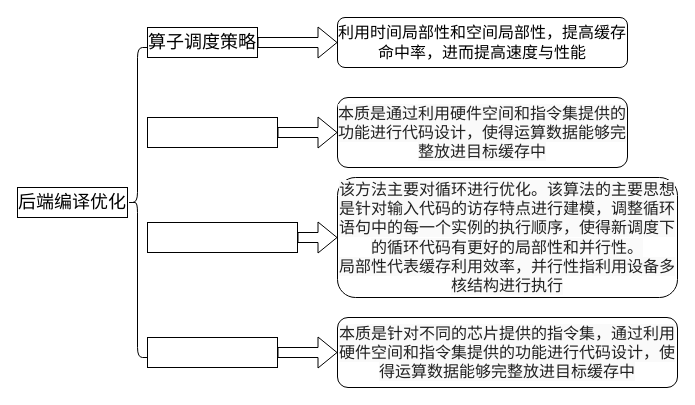
Some shapes in this 695 by 405 pixel diagram are drawn without their labels. The shapes that lost their labels are listed below. From the top down, each one's centre as x and y in pixels, then its label:
At (212,132): "子策略组合优化".
At (222,237): "调度空间算法优化".
At (212,352): "芯片指令集适配".
